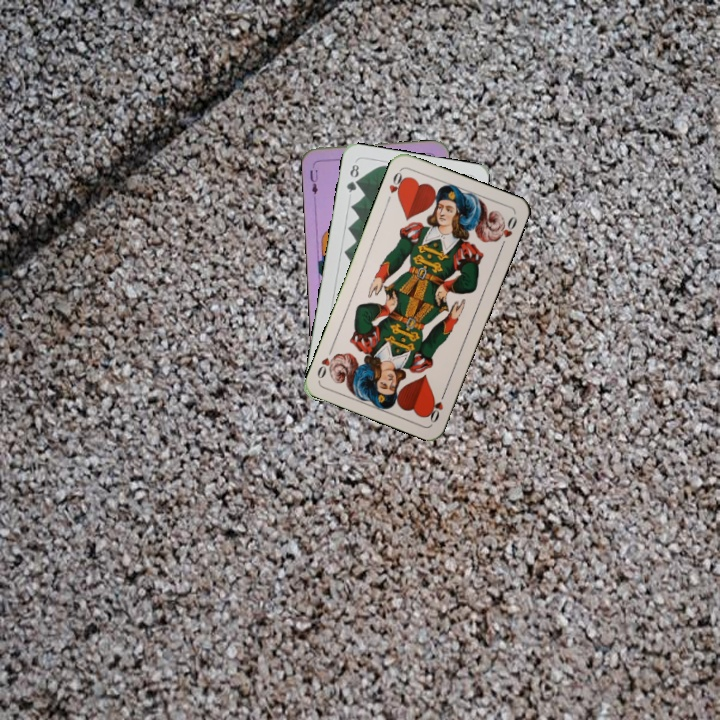EU: (306, 166, 320, 197)
G8: (342, 160, 362, 195)
HO: (382, 166, 409, 205), (424, 386, 449, 425)
